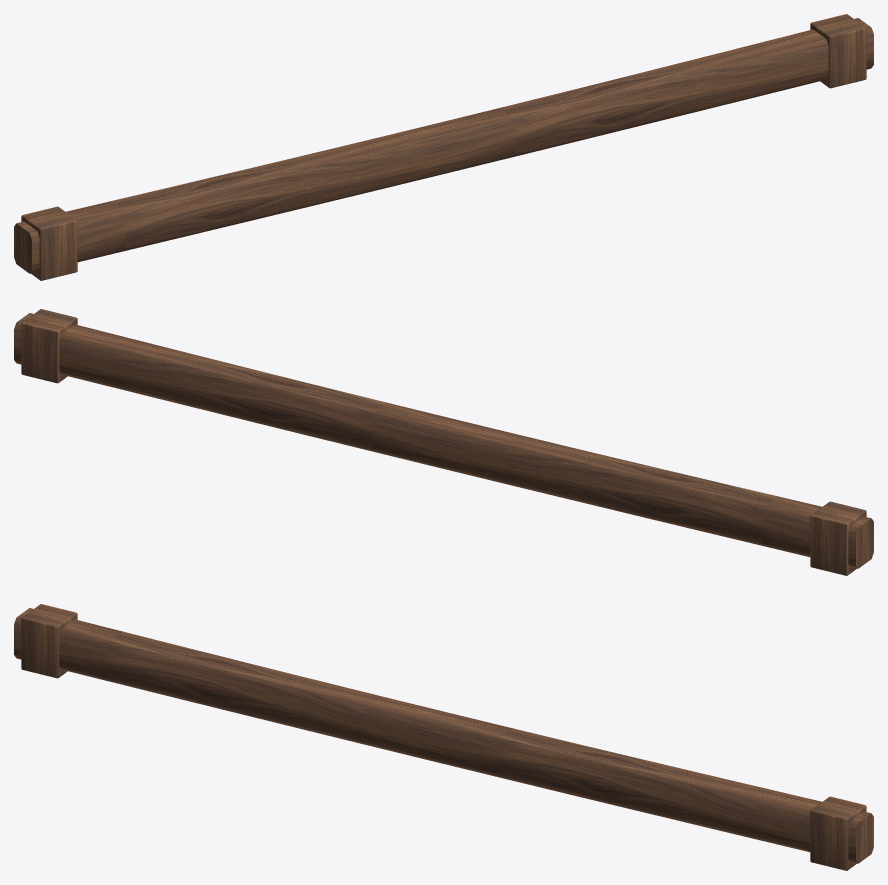
The model's file is CM_SW10_ShopBeam.fbx.
3 views of the same model, one above another, from view 1: azimuth 30°, elevation 25°; view 2: azimuth 150°, elevation 25°; view 3: azimuth 330°, elevation 25° (orthographic).
Parts seen in each view (by area): view 1: CM_SW10_ShopBeam; view 2: CM_SW10_ShopBeam; view 3: CM_SW10_ShopBeam.
Part boxes in pixels (<box>): CM_SW10_ShopBeam: <box>14,14,873,280</box>; CM_SW10_ShopBeam: <box>14,309,873,575</box>; CM_SW10_ShopBeam: <box>14,604,873,870</box>.
Bounding box in the file's own units: 5.4 × 0.32 × 0.22.
